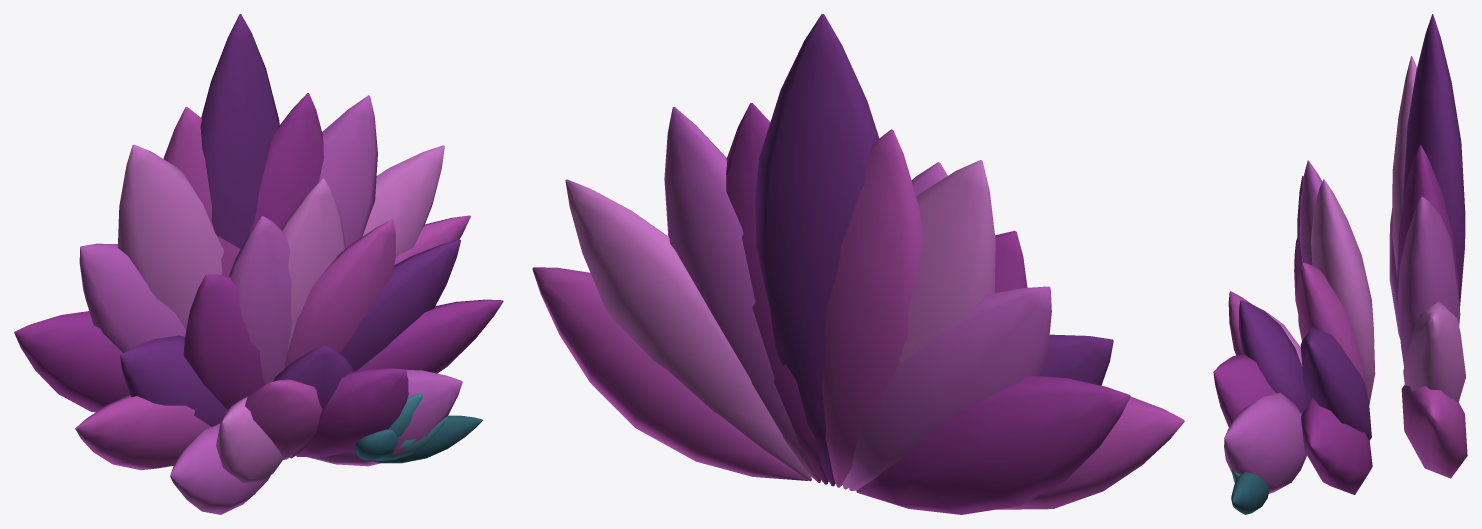
File: purple_shrub.glb
3 views of the same model, side by side, from view 1: azimuth 30°, elevation 25°; view 2: azimuth 150°, elevation 25°; view 3: azimuth 270°, elevation 25° (orthographic). The views are drawn at different scales.
Visible parts, largest first — view 1: Plum_Foliage_1_5, Plum_Foliage_1_3, Plum_Foliage_2_6, Plum_Foliage_1_1, Plum_Foliage_2_3, Plum_Foliage_2_4, Plum_Foliage_1_2, Plum_Foliage_2_1, Plum_Foliage_2_7, Plum_Foliage_1_7, Plum_Foliage_3_5, Plum_Foliage_1_6 (+15 smaller); view 2: Plum_Foliage_1_5, Plum_Foliage_1_1, Plum_Foliage_1_8, Plum_Foliage_1_4, Plum_Foliage_1_2, Plum_Foliage_1_9, Plum_Foliage_1_7, Plum_Foliage_1_3, Plum_Foliage_1_6, Plum_Foliage_2_1, Plum_Foliage_2_2, Plum_Foliage_2_3; view 3: Plum_Foliage_1_5, Plum_Foliage_2_5, Plum_Foliage_1_7, Plum_Foliage_3_6, Plum_Foliage_2_7, Plum_Foliage_1_9, Plum_Foliage_1_8, Plum_Foliage_2_8, Plum_Foliage_3_4, Plum_Foliage_2_6, Plum_Foliage_3_5, Plum_Foliage_1_6 (+5 smaller).
Boxes of the visible parts, x1,y1,x2,y2 form: Plum_Foliage_1_5: [200, 14, 279, 248]; Plum_Foliage_1_3: [117, 144, 223, 329]; Plum_Foliage_2_6: [284, 219, 395, 368]; Plum_Foliage_1_1: [14, 311, 129, 412]; Plum_Foliage_2_3: [183, 274, 264, 409]; Plum_Foliage_2_4: [228, 216, 292, 384]; Plum_Foliage_1_2: [79, 243, 185, 352]; Plum_Foliage_2_1: [75, 395, 211, 470]; Plum_Foliage_2_7: [340, 239, 460, 371]; Plum_Foliage_1_7: [319, 95, 377, 247]; Plum_Foliage_3_5: [296, 368, 408, 456]; Plum_Foliage_1_6: [249, 93, 323, 233]; Plum_Foliage_1_5: [755, 14, 879, 486]; Plum_Foliage_1_1: [856, 375, 1130, 514]; Plum_Foliage_1_8: [565, 179, 811, 481]; Plum_Foliage_1_4: [821, 129, 923, 487]; Plum_Foliage_1_2: [849, 286, 1051, 490]; Plum_Foliage_1_9: [532, 267, 808, 480]; Plum_Foliage_1_7: [664, 107, 820, 482]; Plum_Foliage_1_3: [842, 160, 995, 489]; Plum_Foliage_1_6: [726, 103, 828, 484]; Plum_Foliage_2_1: [997, 396, 1184, 509]; Plum_Foliage_2_2: [1041, 334, 1113, 385]; Plum_Foliage_2_3: [994, 230, 1027, 293]; Plum_Foliage_1_5: [1403, 14, 1465, 308]; Plum_Foliage_2_5: [1311, 179, 1375, 404]; Plum_Foliage_1_7: [1397, 197, 1460, 366]; Plum_Foliage_3_6: [1224, 392, 1306, 493]; Plum_Foliage_2_7: [1300, 327, 1371, 440]; Plum_Foliage_1_9: [1401, 385, 1467, 478]; Plum_Foliage_1_8: [1403, 301, 1465, 402]; Plum_Foliage_2_8: [1300, 398, 1372, 494]; Plum_Foliage_3_4: [1239, 300, 1309, 413]; Plum_Foliage_2_6: [1297, 262, 1367, 396]; Plum_Foliage_3_5: [1213, 353, 1276, 427]; Plum_Foliage_1_6: [1397, 145, 1459, 294].
Size of the model in its own units: 1.85 by 1.6 by 0.8032.
